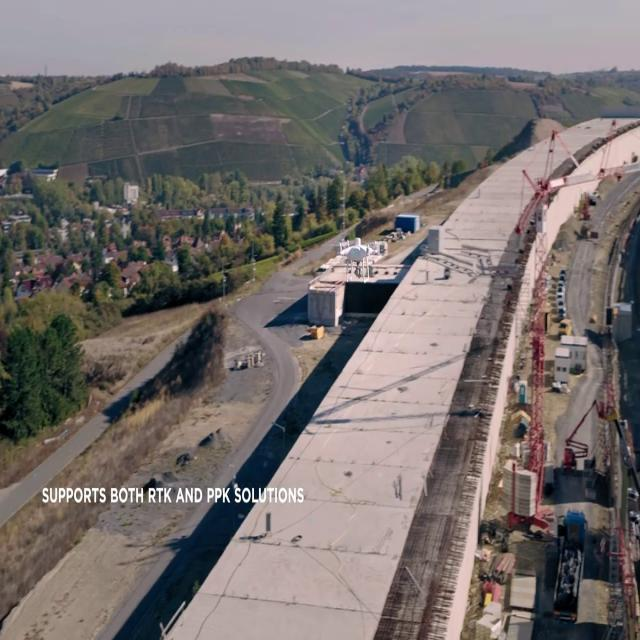drone: (330, 236, 382, 284)
